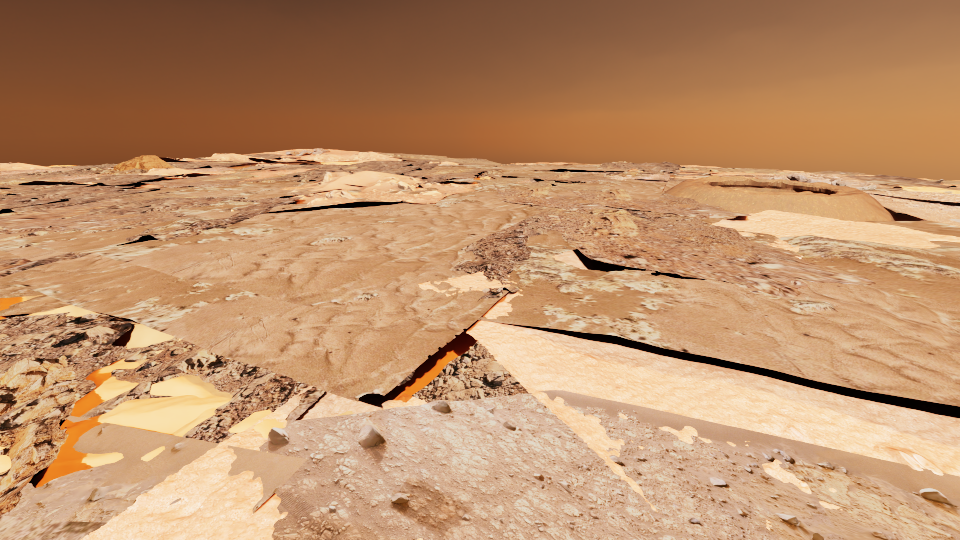bedrock: (0, 312, 959, 539), (57, 196, 301, 245), (0, 164, 183, 215), (450, 213, 558, 284), (576, 161, 838, 181), (230, 161, 440, 185), (577, 208, 655, 238), (0, 252, 91, 277), (880, 187, 959, 212), (108, 212, 192, 230), (845, 175, 959, 187), (167, 161, 252, 172), (0, 227, 71, 240), (418, 169, 475, 183), (511, 181, 555, 197), (478, 285, 519, 300), (593, 188, 633, 200), (397, 367, 417, 385), (186, 175, 258, 180), (384, 154, 443, 160), (0, 180, 59, 185), (478, 169, 533, 174), (545, 171, 577, 178), (245, 154, 282, 158), (560, 181, 587, 185), (0, 226, 13, 234), (495, 163, 527, 166), (19, 243, 39, 247), (455, 160, 480, 162)
rocks: (768, 174, 876, 189), (114, 155, 173, 170), (286, 148, 329, 155)
sand: (0, 183, 959, 539), (29, 375, 232, 487), (70, 359, 148, 416), (98, 179, 301, 199), (433, 162, 637, 178), (581, 179, 681, 199), (762, 460, 810, 493), (868, 181, 959, 193), (250, 168, 318, 179), (659, 426, 696, 443), (254, 149, 316, 159), (540, 186, 579, 198), (141, 446, 164, 460), (269, 203, 309, 211), (385, 187, 437, 193), (448, 176, 494, 182), (323, 149, 359, 156), (707, 172, 764, 176), (0, 232, 29, 238), (0, 455, 10, 472), (819, 501, 839, 508), (675, 175, 708, 179), (319, 161, 354, 164), (861, 187, 894, 190), (356, 198, 383, 201), (305, 190, 328, 193), (169, 230, 190, 233), (699, 437, 711, 442)
soil: (407, 170, 959, 297), (0, 189, 190, 233), (264, 181, 477, 213), (136, 170, 279, 187), (379, 153, 500, 164), (280, 172, 344, 189), (0, 173, 108, 181), (791, 171, 869, 181), (260, 158, 359, 165), (636, 172, 670, 183), (694, 167, 784, 171), (0, 182, 63, 187), (220, 164, 256, 170), (222, 157, 262, 162), (186, 160, 233, 164), (0, 168, 43, 172), (387, 181, 401, 190), (409, 177, 422, 183), (373, 156, 386, 160)
